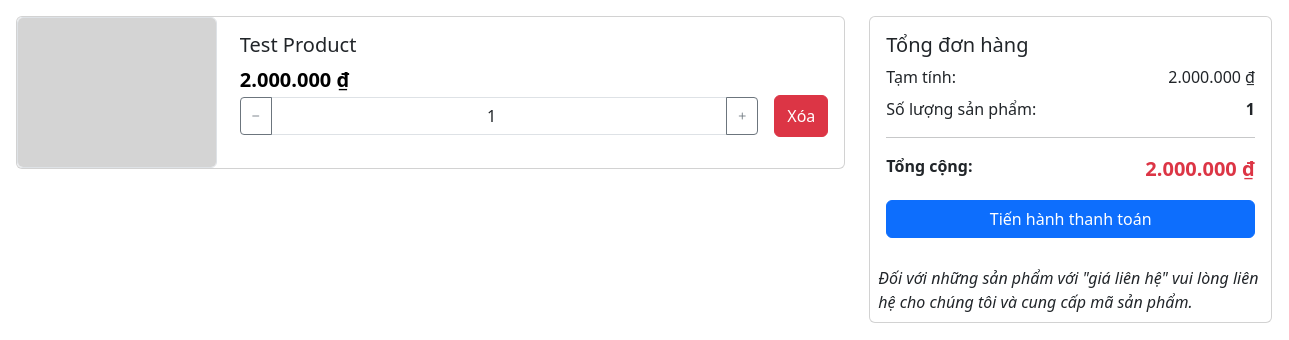
Test case: Cart Component › should update quantity when clicking plus button
Click the button with test id "plus" at (742, 116), box [726,97,758,135]
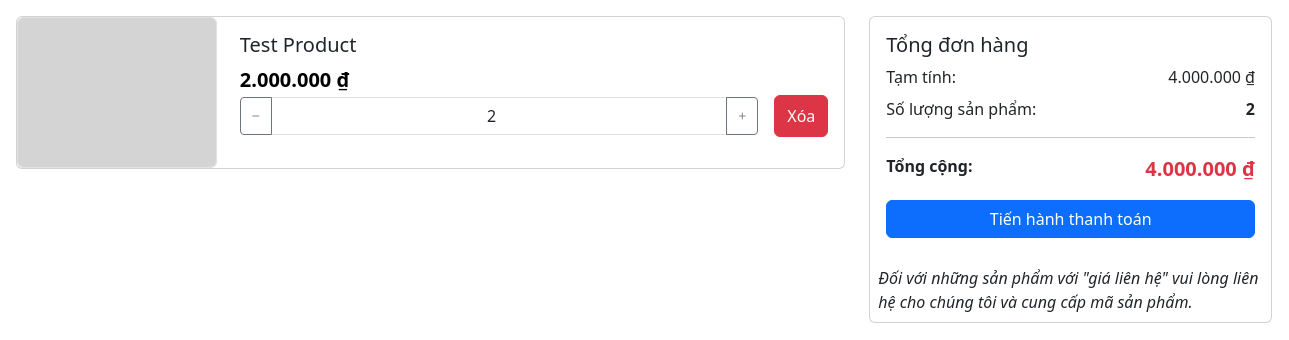
Check: the number field showing "2" is shown, box [271,97,727,135]
